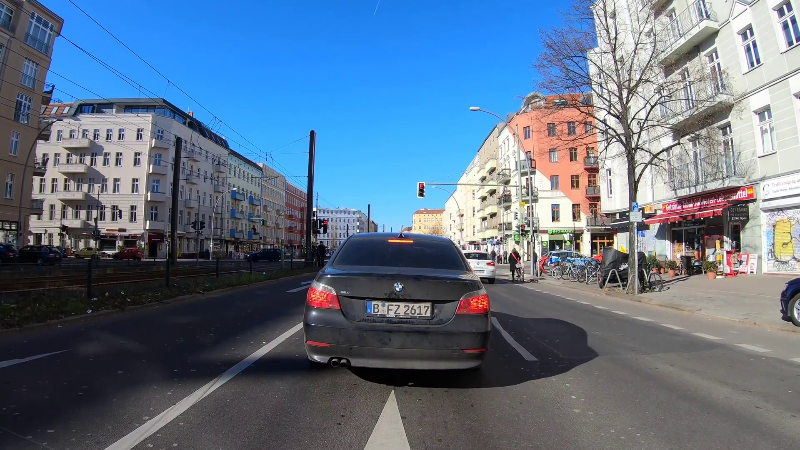Plate: (365, 300, 433, 316)
